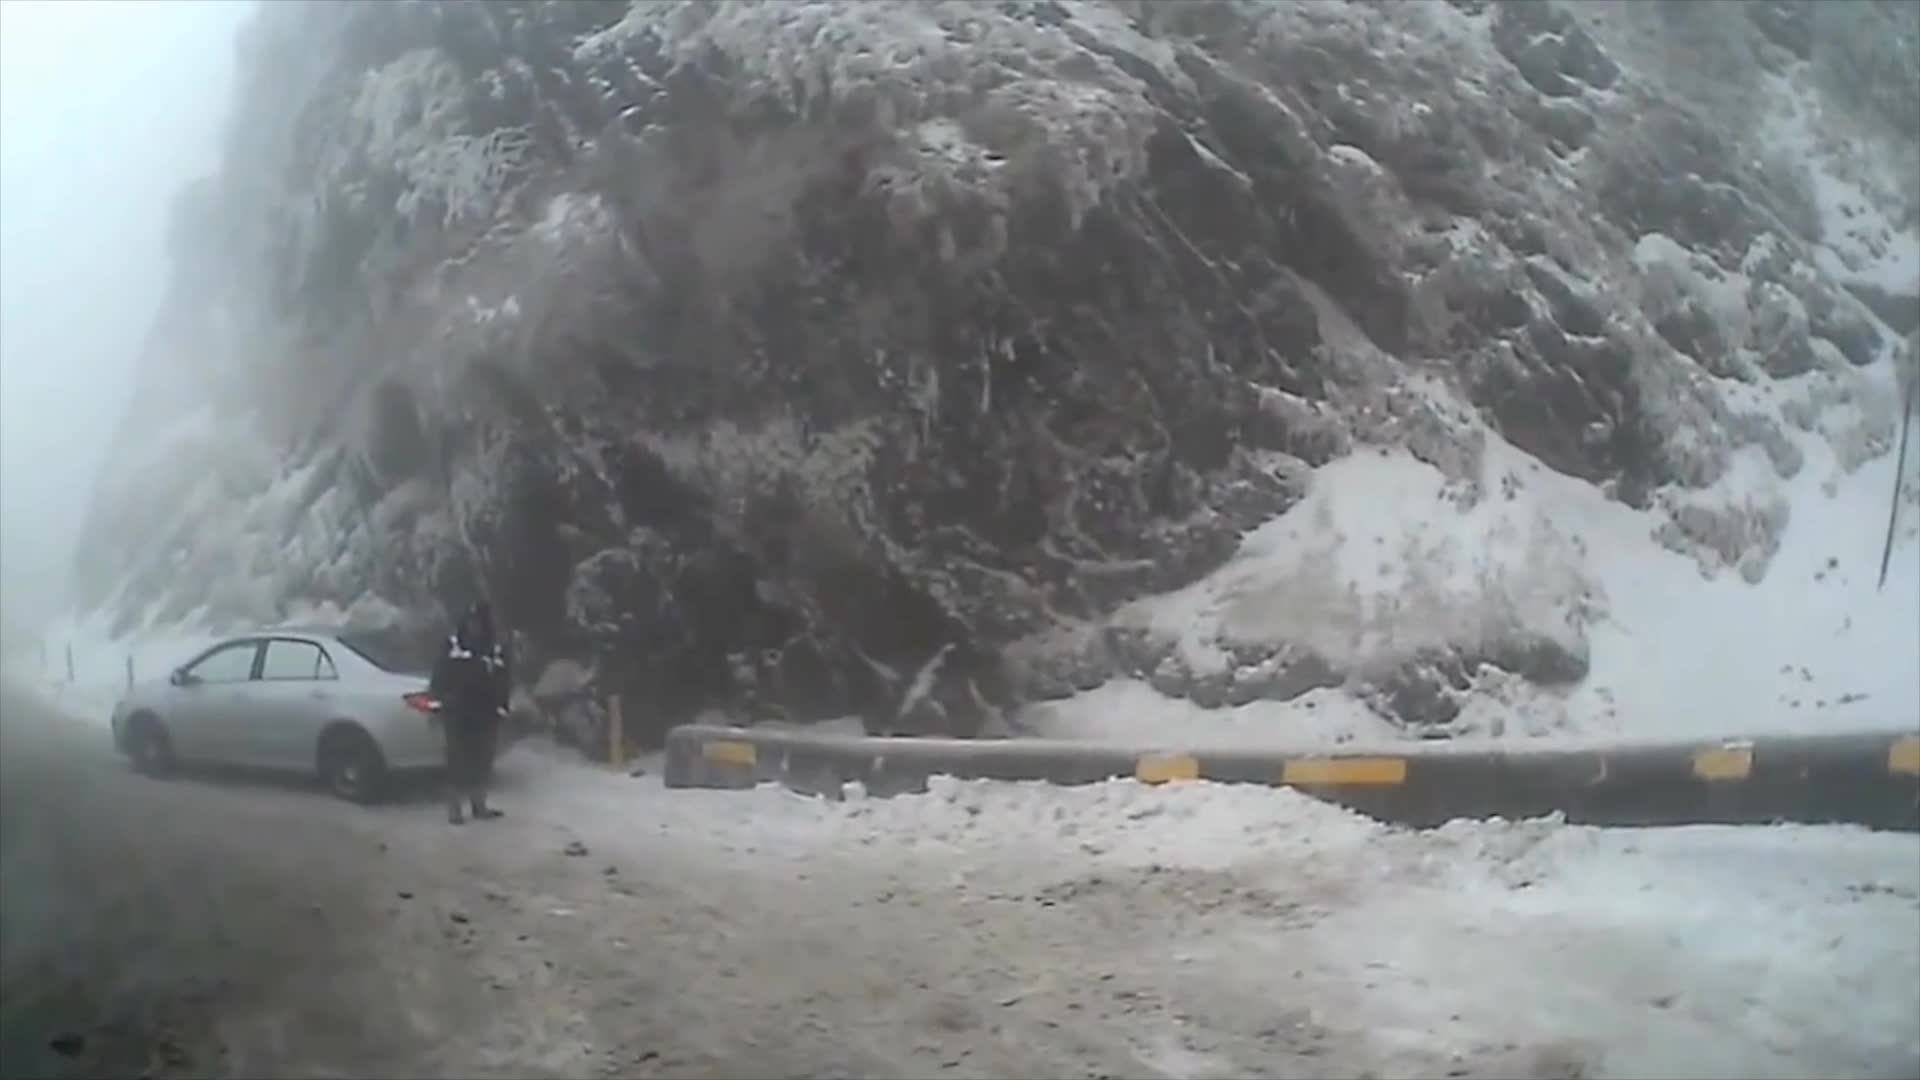pedestrian: (431, 596, 515, 823)
vehicle: (112, 620, 515, 804)
